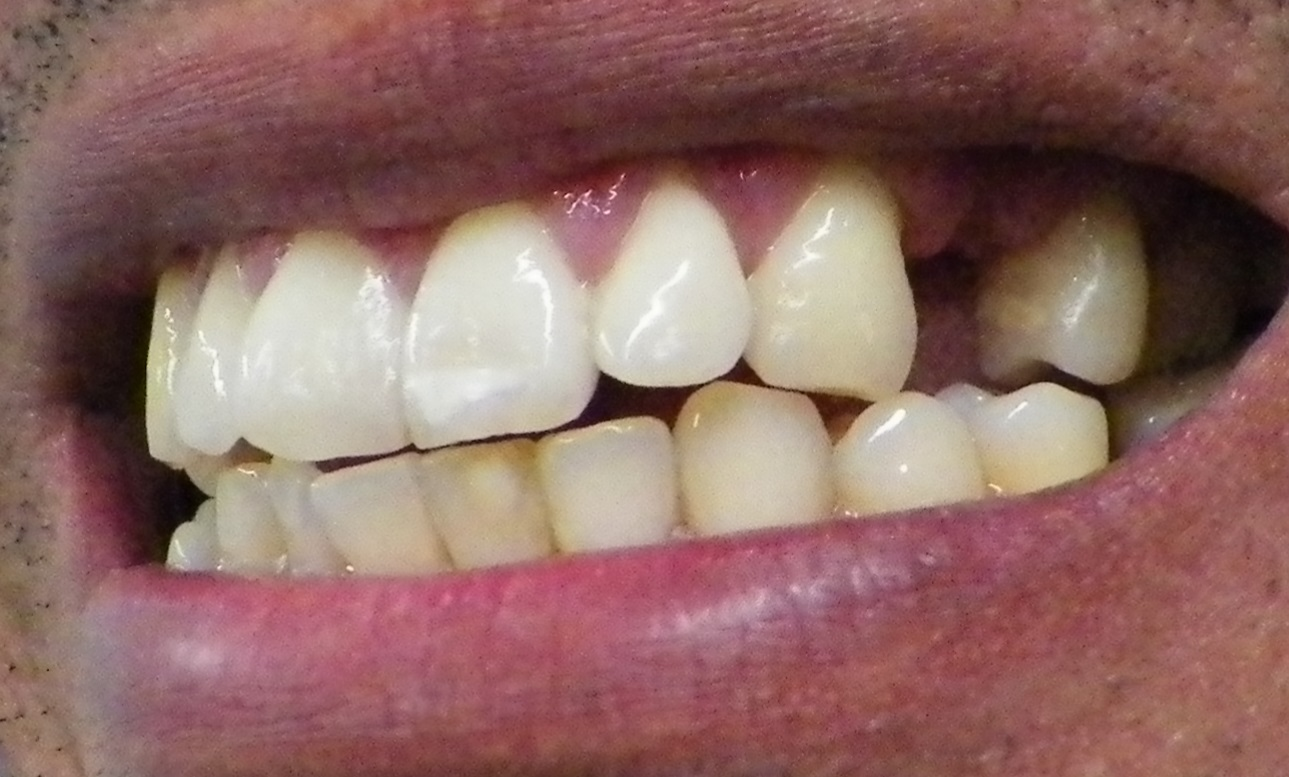boca: (150, 186, 1232, 598)
